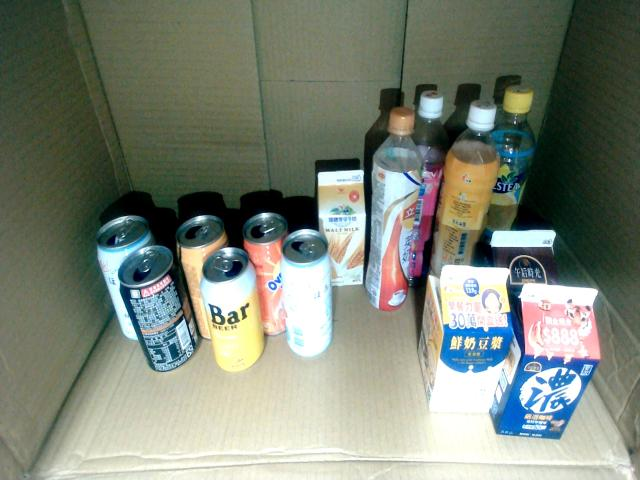Canned_drinks: (118, 244, 202, 372), (198, 245, 266, 374), (96, 213, 156, 341), (279, 228, 334, 359), (174, 214, 230, 342), (241, 211, 290, 336)
bottle: (363, 104, 424, 313), (432, 97, 502, 277), (485, 83, 537, 237), (408, 89, 447, 290)
